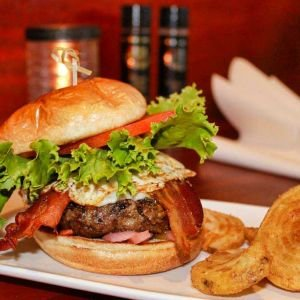soup: (0, 76, 219, 271), (191, 184, 300, 296)
